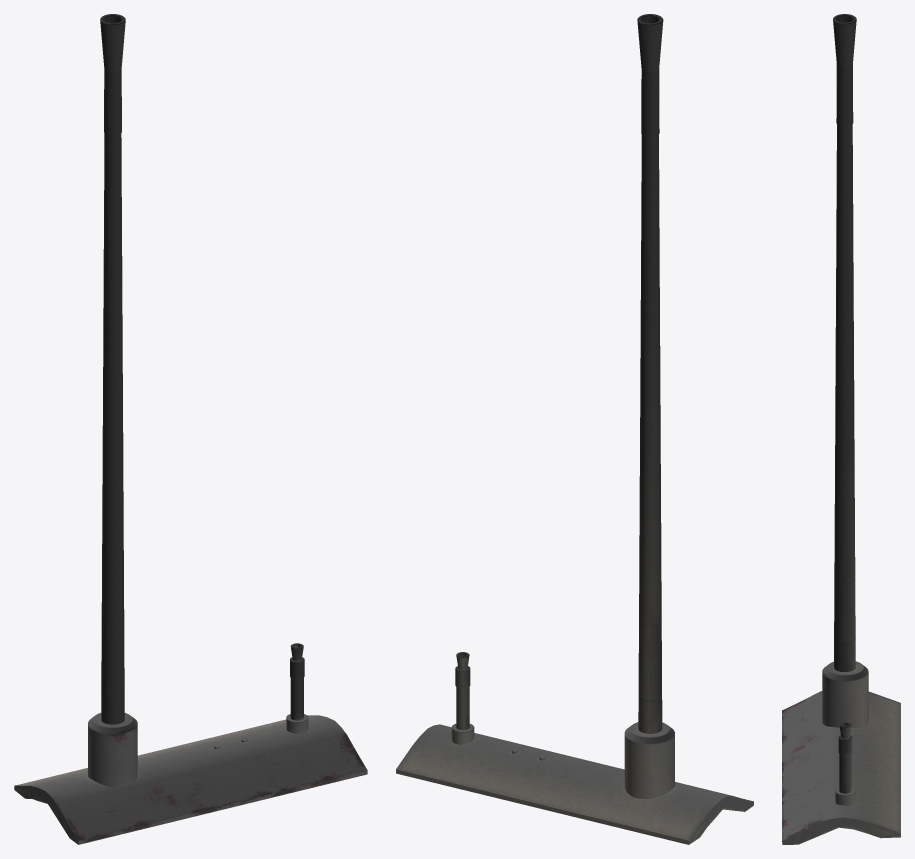
File: Gun_04.glb
The picture shows the model from 3 angles, left to right: view 1: azimuth 30°, elevation 25°; view 2: azimuth 150°, elevation 25°; view 3: azimuth 270°, elevation 25°; orthographic projection. The views are drawn at different scales.
Parts seen in each view (by area): view 1: set_0_group_0; view 2: set_0_group_0; view 3: set_0_group_0.
Part boxes in pixels (bbox=[...]): set_0_group_0: bbox=[14, 14, 367, 844]; set_0_group_0: bbox=[396, 14, 753, 844]; set_0_group_0: bbox=[782, 14, 900, 844].
Bounding box in the file's own units: 0.8905 × 2.31 × 0.3425.
1 material, 1 textured.
